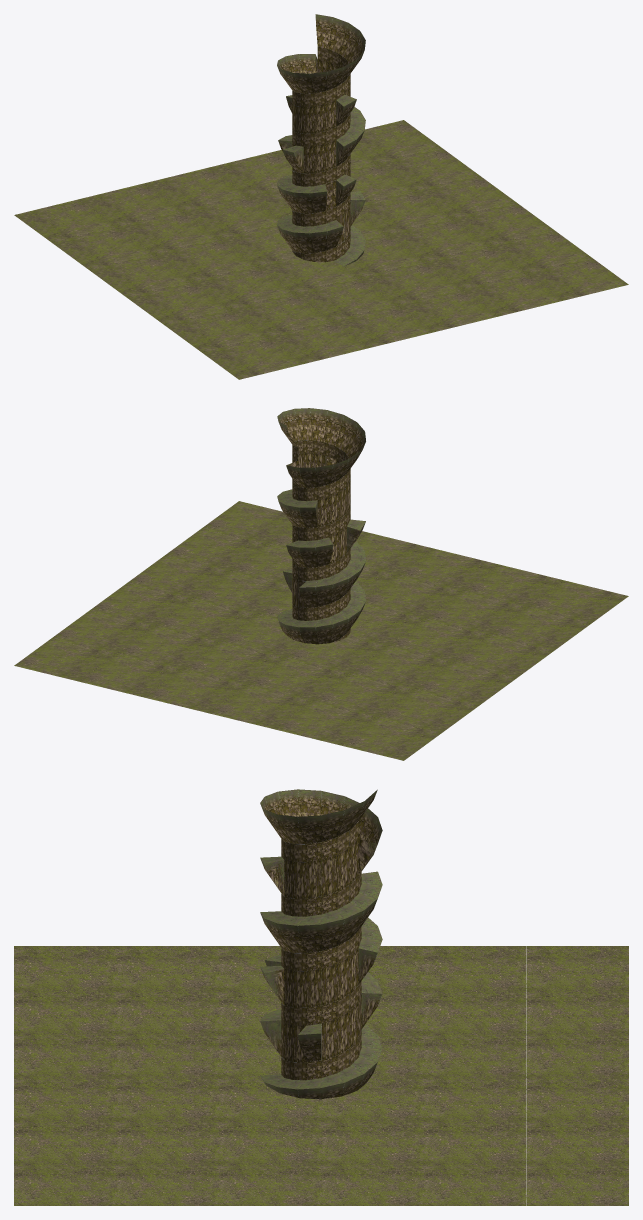
File: level01_ver01.glb
3 renders of one model, top to bottom at view 1: azimuth 30°, elevation 25°; view 2: azimuth 150°, elevation 25°; view 3: azimuth 270°, elevation 25°, orthographic. The views are drawn at different scales.
Visible parts, largest first — view 1: Bolt.001; view 2: Bolt.001; view 3: Bolt.001.
Boxes of the visible parts, x1=… form: Bolt.001: x1=14, y1=14, x2=628, y2=379; Bolt.001: x1=14, y1=408, x2=628, y2=760; Bolt.001: x1=14, y1=789, x2=628, y2=1205.
Bounding box in the file's own units: 124 × 84.12 × 124.
1 material, 1 textured.
